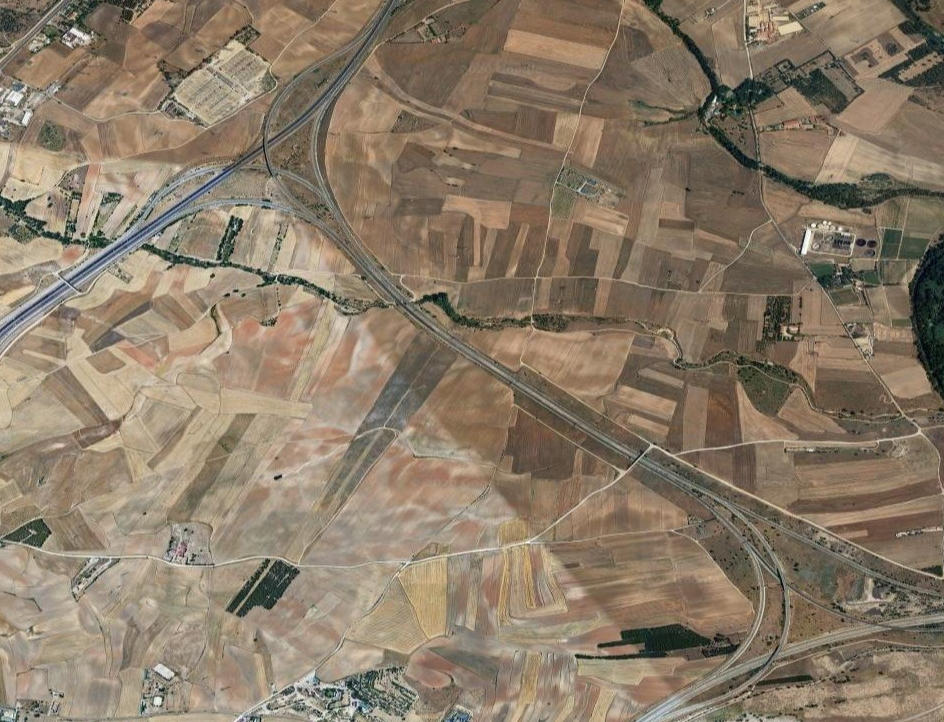motorway: (491, 339, 944, 722), (1, 154, 283, 373), (269, 160, 496, 373), (230, 1, 430, 167)
